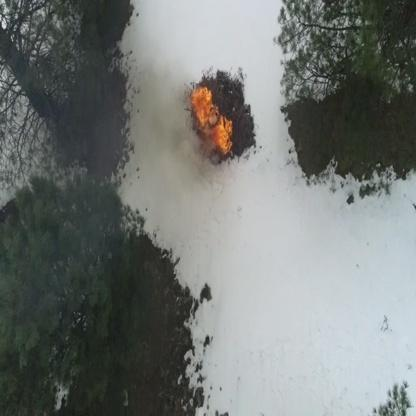Fire: (191, 87, 214, 124), (214, 117, 234, 154)
